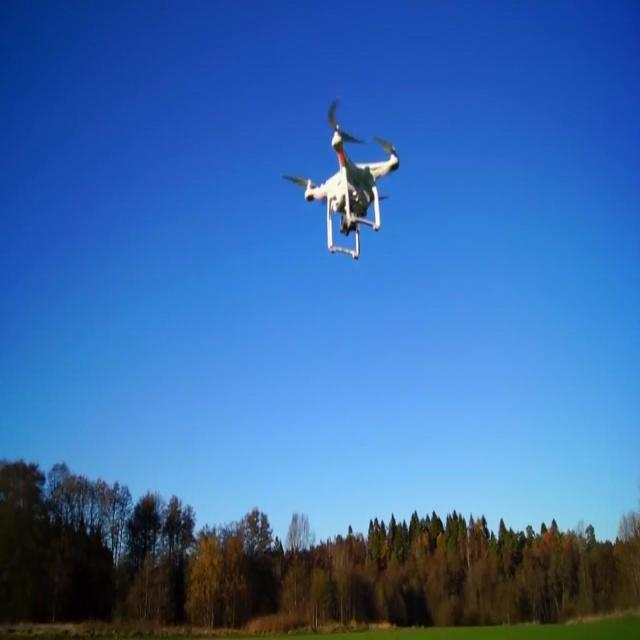drone: (304, 122, 402, 262)
